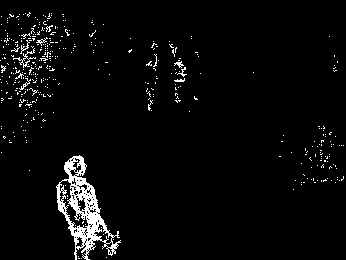person: (56, 156, 122, 259)
